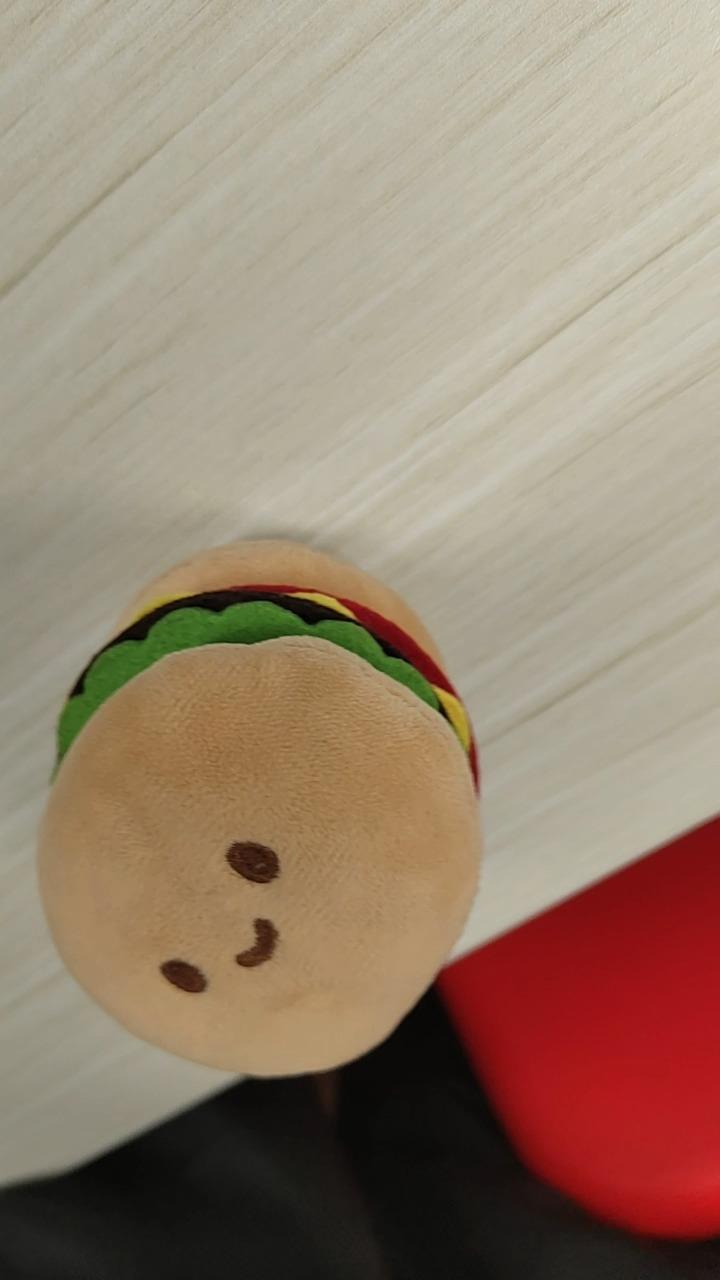hamburger: (35, 535, 485, 1081)
